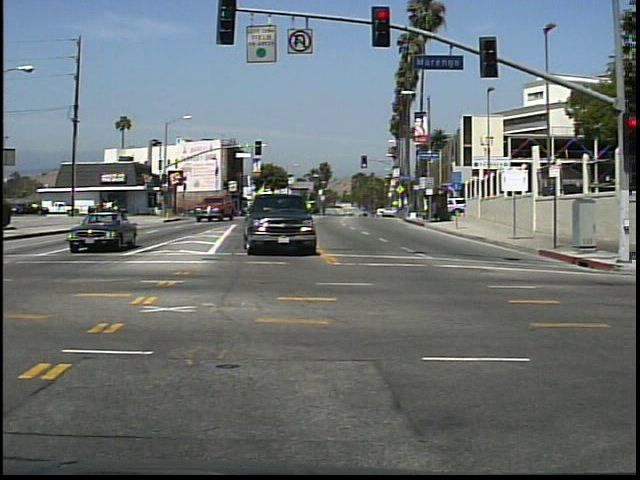person: (95, 196, 111, 224)
